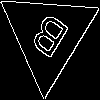B: (23, 11, 71, 68)
